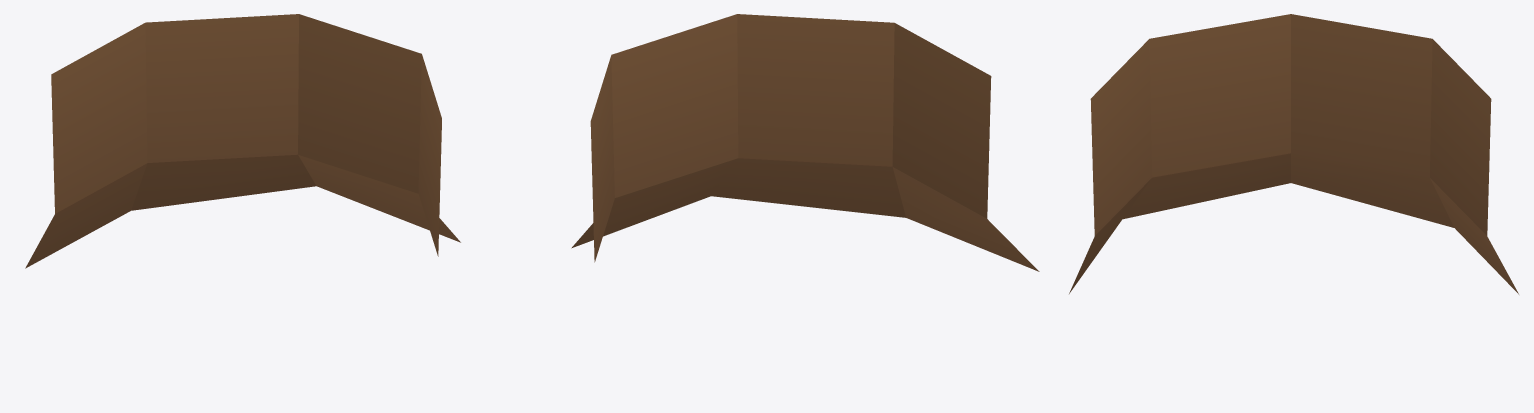
File: stump_0.glb
3 views of the same model, side by side, from view 1: azimuth 30°, elevation 25°; view 2: azimuth 150°, elevation 25°; view 3: azimuth 270°, elevation 25° (orthographic). The views are drawn at different scales.
Visible parts, largest first — view 1: stump_0; view 2: stump_0; view 3: stump_0.
Part boxes in pixels (x1,y1,x2,y2): stump_0: [25, 14, 460, 268]; stump_0: [571, 14, 1039, 271]; stump_0: [1069, 14, 1518, 294].
Bounding box in the file's own units: 0.9635 × 0.4242 × 0.8509.
